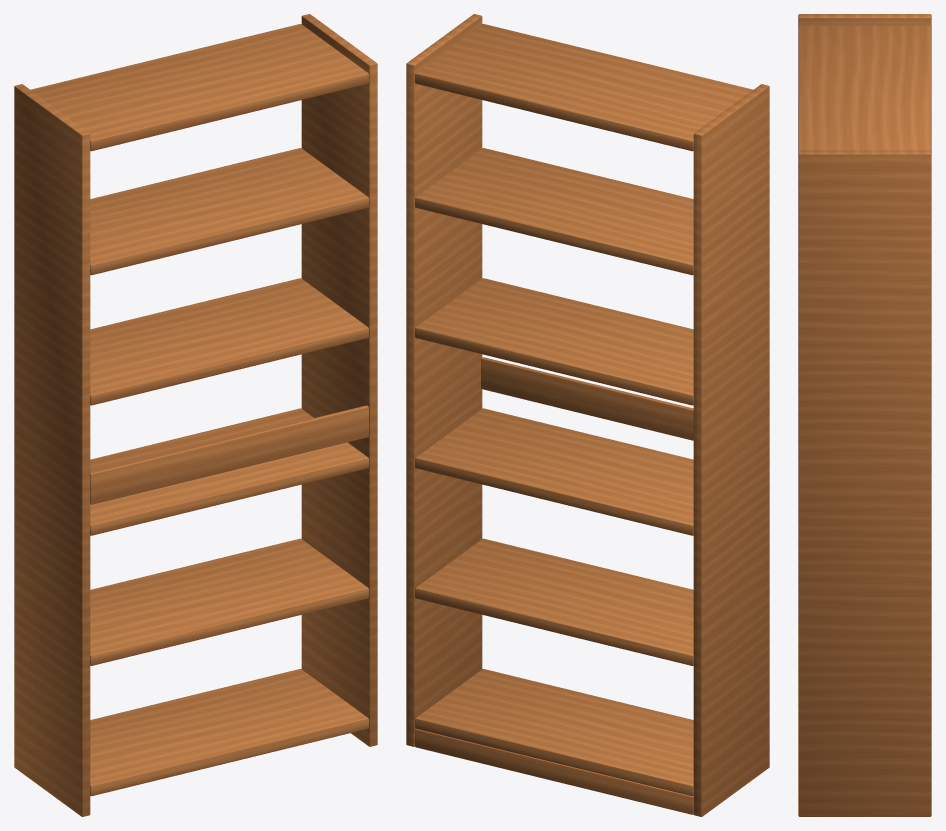
Rendered from SM_Shelf_Pantry_1U.fbx.
The picture shows the model from 3 angles, left to right: view 1: azimuth 30°, elevation 25°; view 2: azimuth 150°, elevation 25°; view 3: azimuth 270°, elevation 25°; orthographic projection. The views are drawn at different scales.
Visible parts, largest first — view 1: SM_Shelf_Pantry_1U; view 2: SM_Shelf_Pantry_1U; view 3: SM_Shelf_Pantry_1U.
Boxes of the visible parts, left/top/right/bottom form: SM_Shelf_Pantry_1U: left=14, top=14, right=377, bottom=816; SM_Shelf_Pantry_1U: left=406, top=14, right=769, bottom=816; SM_Shelf_Pantry_1U: left=798, top=14, right=931, bottom=816.
Size of what is drawn, in the model's own units: 1 by 2.2 by 0.4.
1 material, 1 textured.
